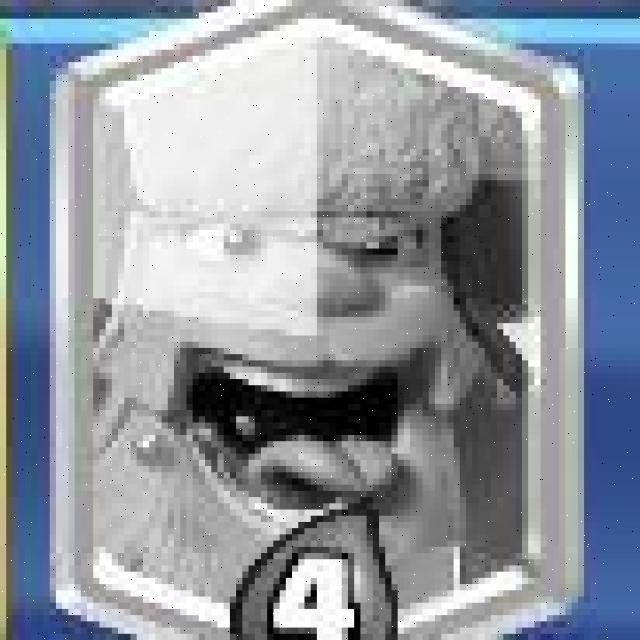Lumberjack: (55, 0, 582, 640)
